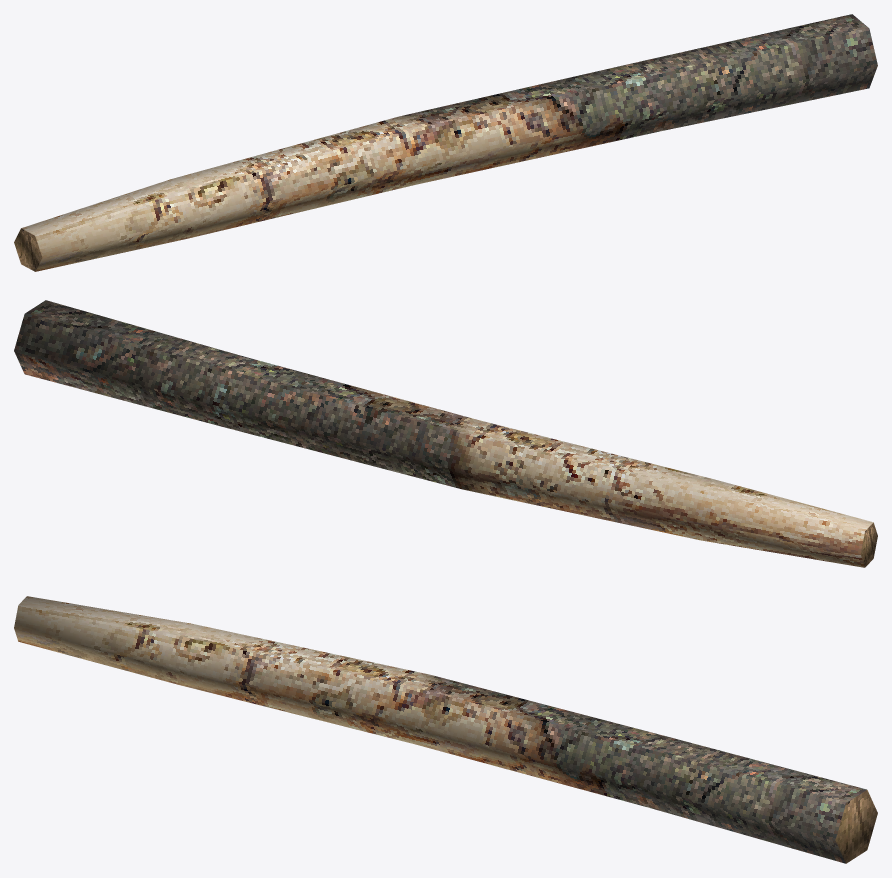
File: dead_branch_02.glb
The picture shows the model from 3 angles, top to bottom: view 1: azimuth 30°, elevation 25°; view 2: azimuth 150°, elevation 25°; view 3: azimuth 330°, elevation 25°; orthographic projection.
Visible parts, largest first — view 1: dead_branch_02; view 2: dead_branch_02; view 3: dead_branch_02.
Boxes of the visible parts, x1,y1,x2,y2 form: dead_branch_02: [14, 14, 877, 271]; dead_branch_02: [14, 300, 877, 567]; dead_branch_02: [14, 596, 877, 863].
Bounding box in the file's own units: 0.8559 × 0.0588 × 0.0856.
Materials: 1 (1 with a texture image).
